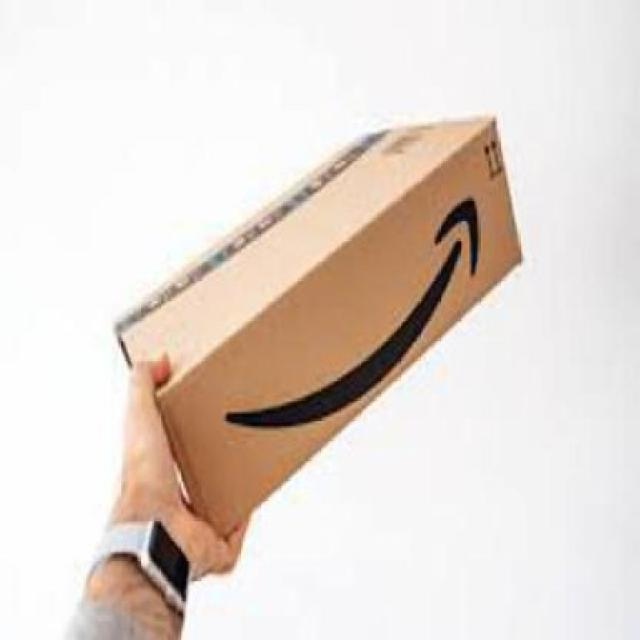box: (104, 112, 527, 536)
